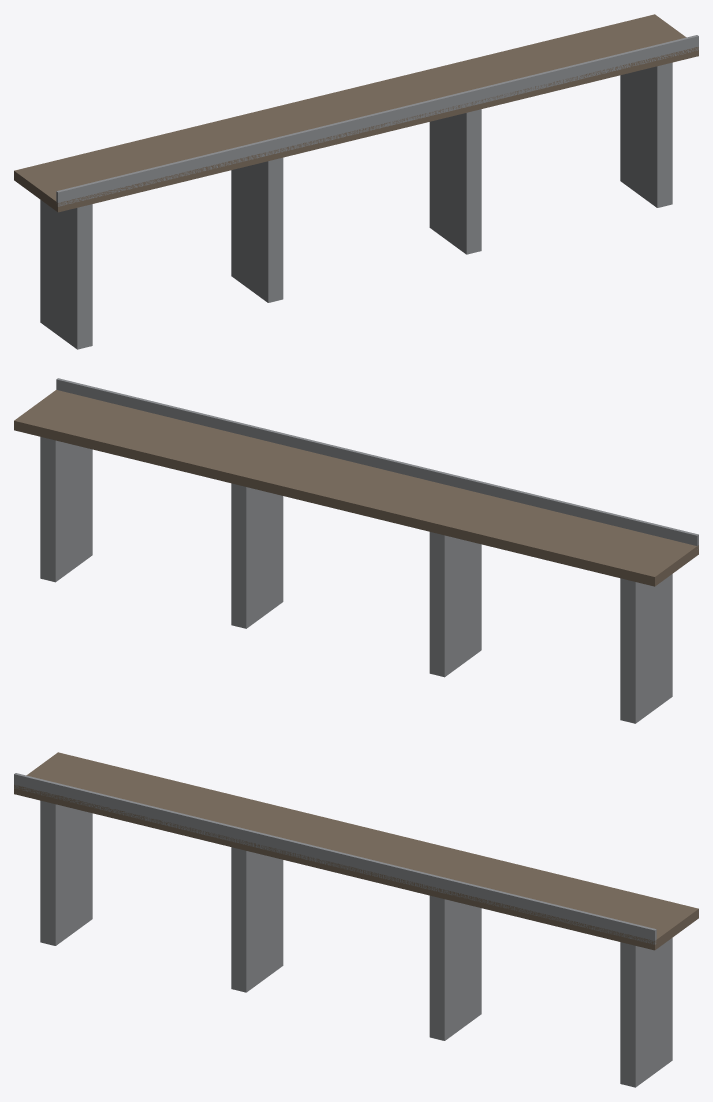
File: SoulShelf.fbx
3 renders of one model, top to bottom at view 1: azimuth 30°, elevation 25°; view 2: azimuth 150°, elevation 25°; view 3: azimuth 330°, elevation 25°, orthographic.
Parts seen in each view (by area): view 1: SoulShelf; view 2: SoulShelf; view 3: SoulShelf.
Boxes of the visible parts, left/top/right/bottom form: SoulShelf: left=14, top=14, right=698, bottom=349; SoulShelf: left=14, top=378, right=698, bottom=723; SoulShelf: left=14, top=752, right=698, bottom=1087.
Size of the model in its own units: 420 by 104 by 50.
